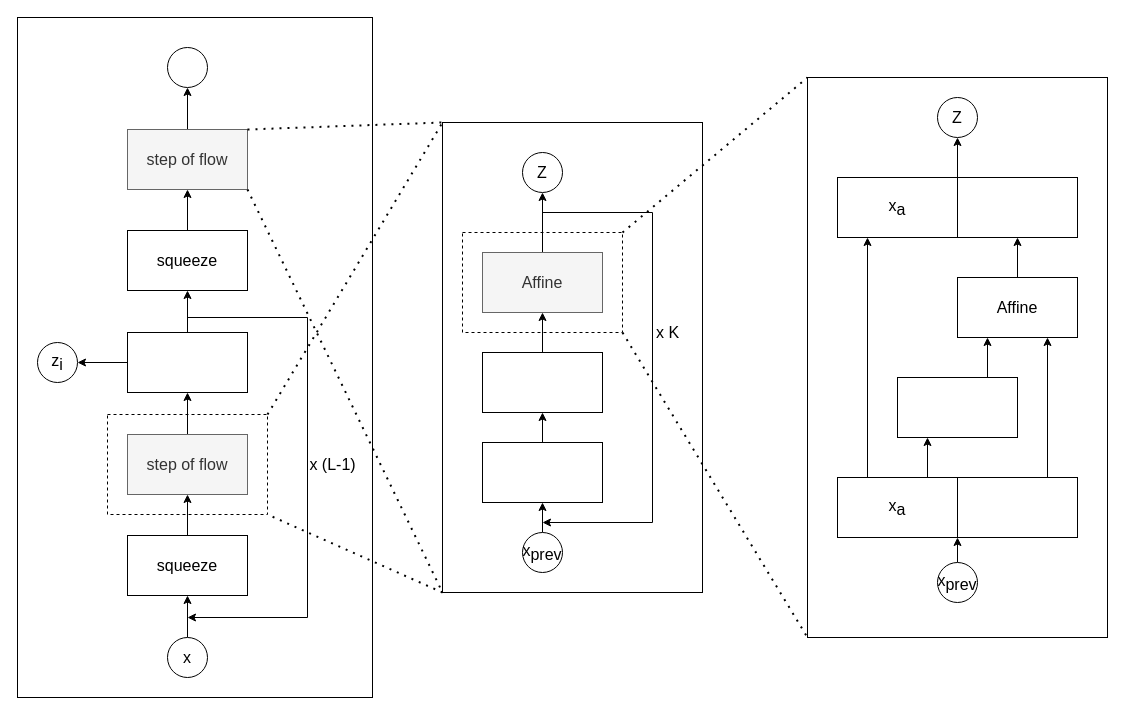
Image size: 1125x715. Some labels were removed from this diagram. The shapes that lost their labels are listed below. From the top down, each one's box as (x1, y1, x2, y2) in pixels, then its label:
(166, 46, 208, 88): z L
(956, 176, 1078, 238): x` b
(126, 332, 248, 392): split
(482, 352, 602, 412): invertible 1x1
(896, 376, 1018, 438): NN
(482, 442, 602, 502): actnorm
(956, 476, 1078, 538): x b
